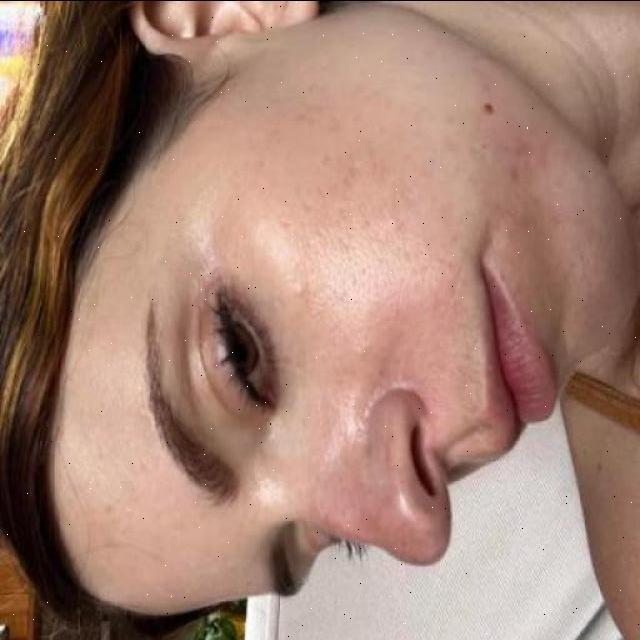Acne: (286, 55, 544, 224)
